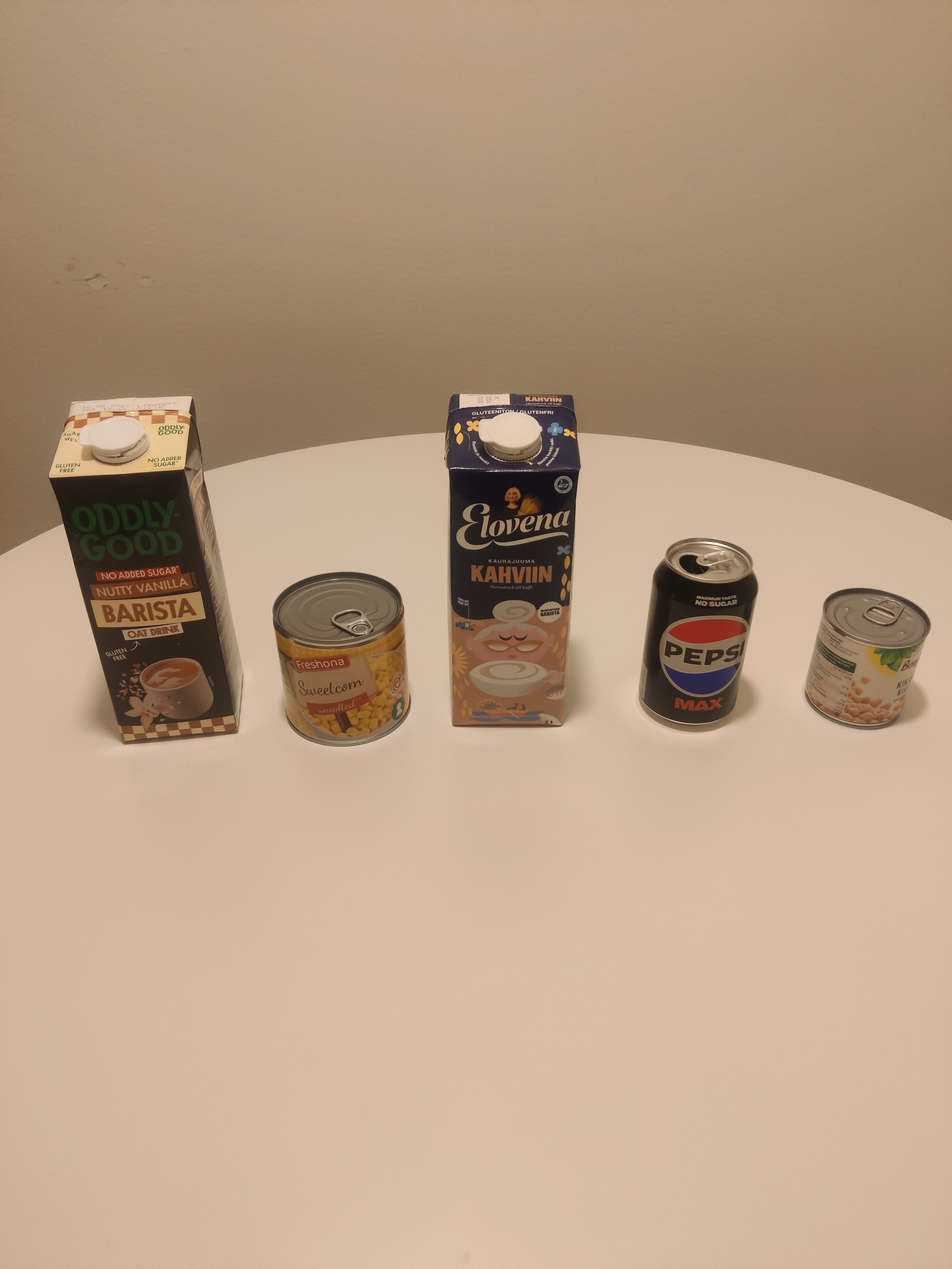Dryckeskartong: (49, 397, 252, 748), (444, 392, 583, 727)
Konservburk: (275, 570, 408, 746), (805, 588, 928, 728)
Pantburk: (637, 518, 783, 772)
